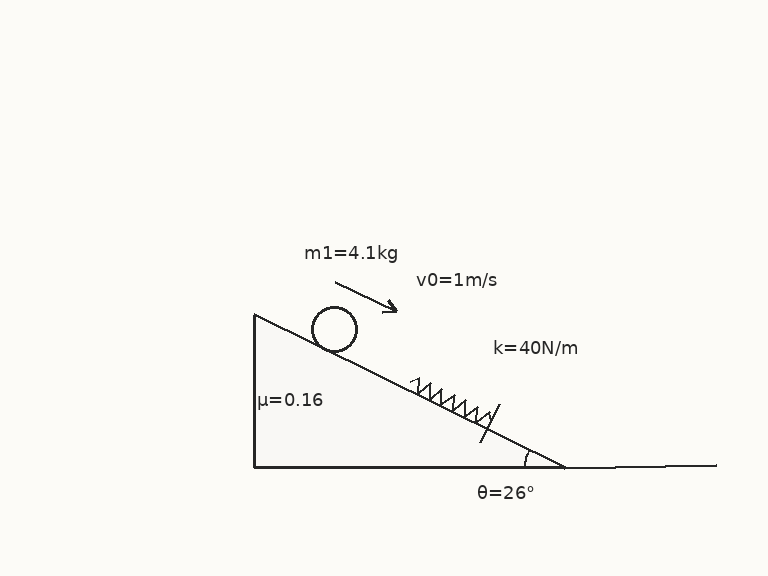ball: (309, 304, 359, 354)
ramp: (251, 313, 567, 469)
spring: (408, 376, 493, 424)
